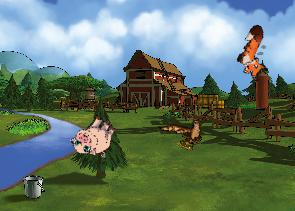eagle: (158, 103, 216, 157)
fox: (229, 22, 283, 84)
pig: (67, 109, 121, 164)
